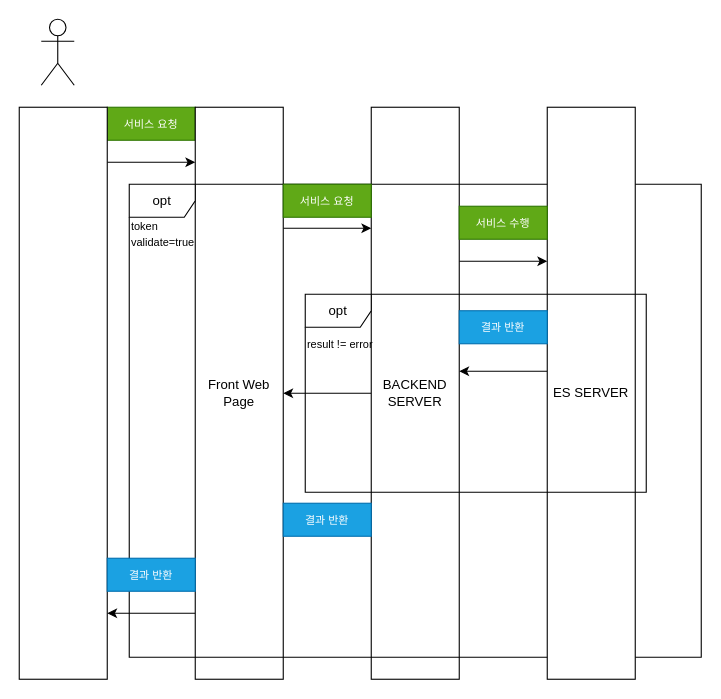
The diagram is 721 pixels wide and 699 high, and some of its shapes have lost their labels. Each missing label, with the centre of its shape:
"Actor" goes at point 57,51.
"USER" goes at point 62,392.
